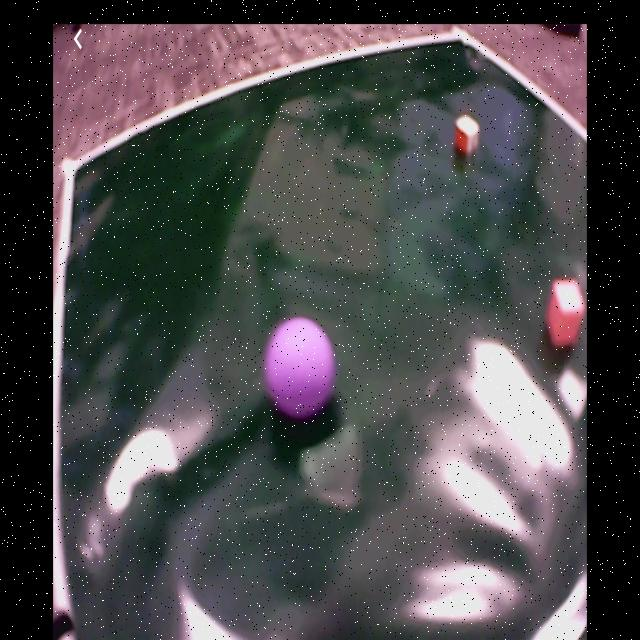ball: (264, 318, 334, 416)
